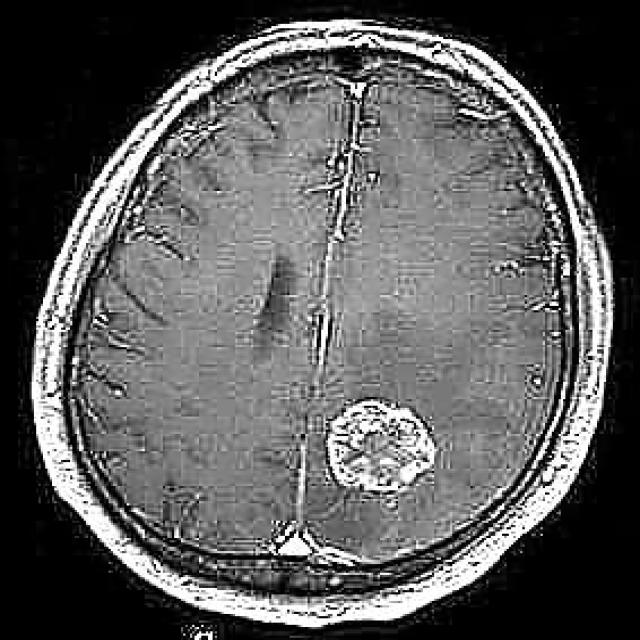Tumor-Cell: (311, 373, 431, 488)
